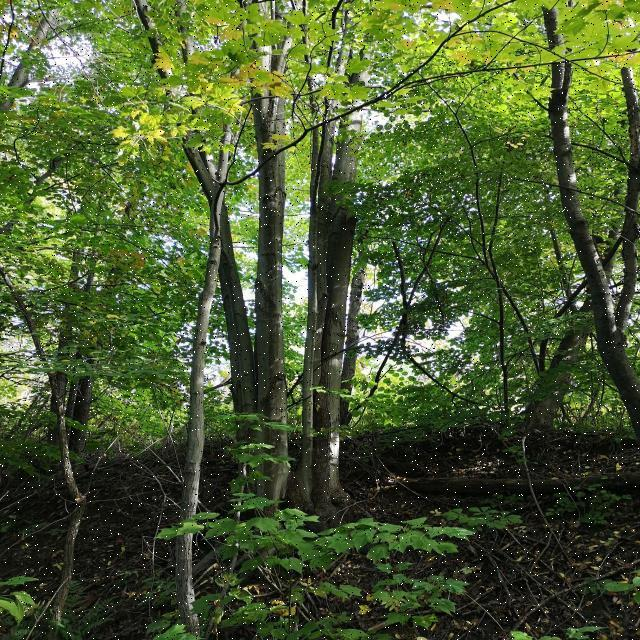fallen_object: (320, 448, 640, 518)
